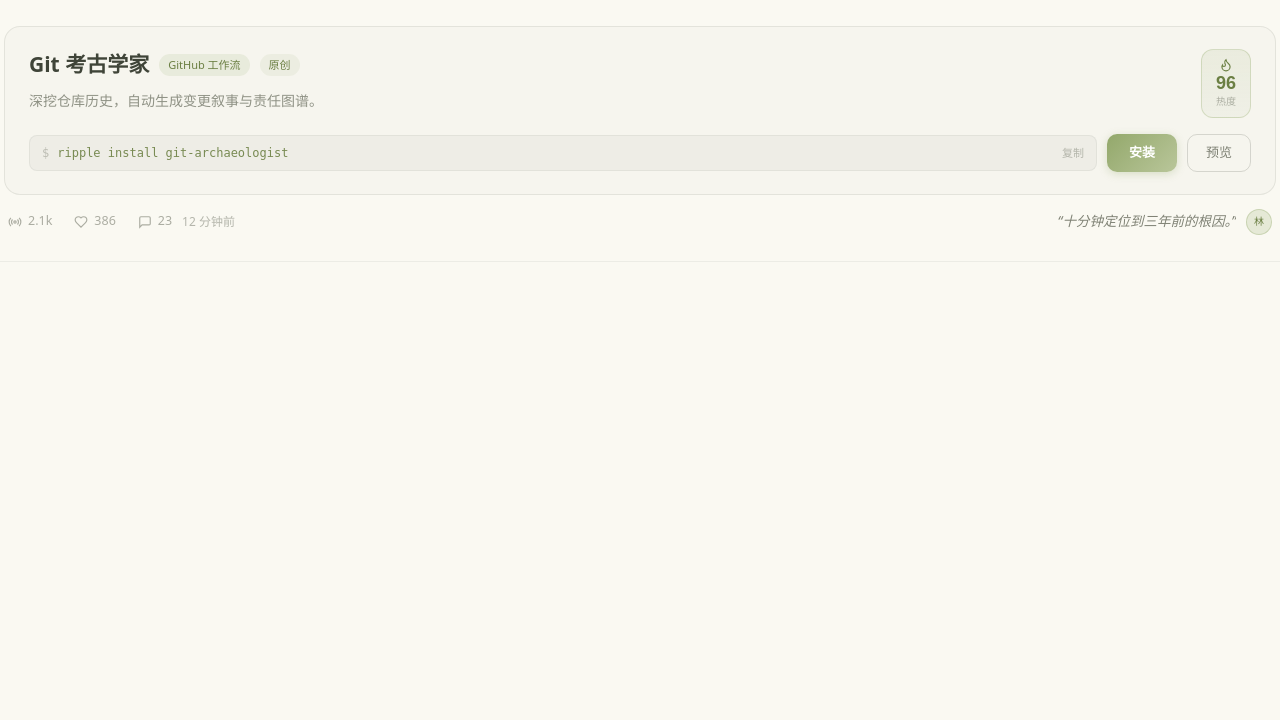
Test case: SkillCard › 未满足前置条件时点击传播给出提示而不调接口
This screenshot has width=1280, height=720.
Click the element titled "传播" at (30, 222), box 8,212 -> 52,231
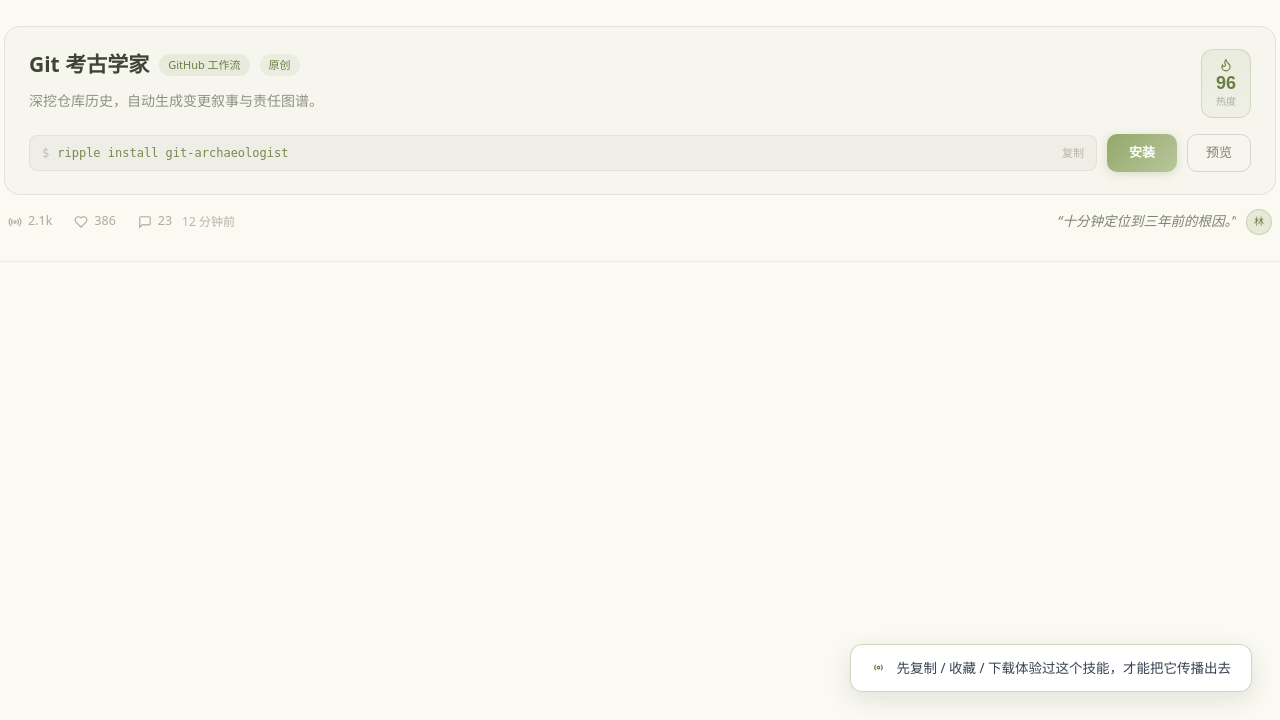
Now the text "先复制 / 收藏 / 下载体验过这个技能，才能把它传播出去" is shown, box 896,658 -> 1231,678
